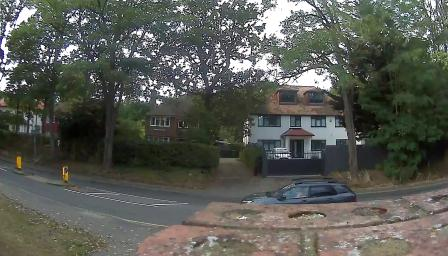Cars: (212, 172, 376, 210)
